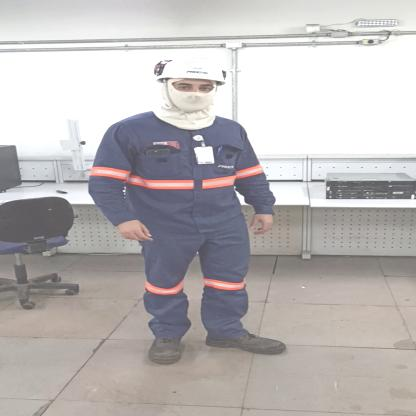Balaclava: (144, 79, 222, 131)
Capacete: (146, 54, 231, 87)
